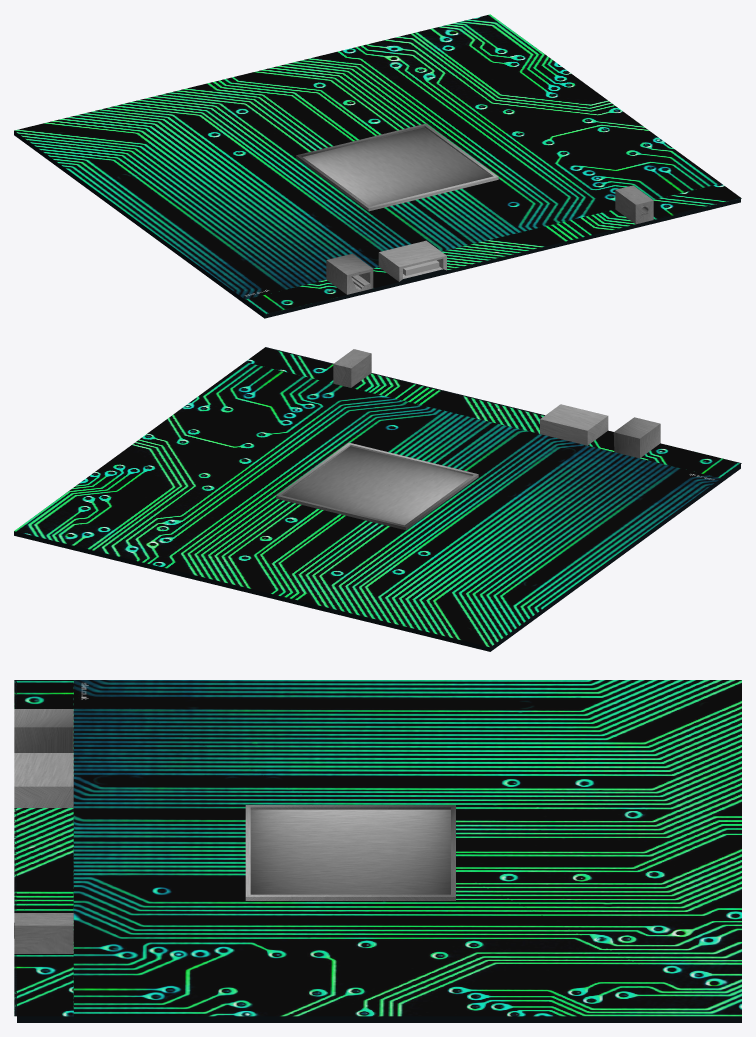
The model's file is motherboard.obj.
3 renders of one model, top to bottom at view 1: azimuth 30°, elevation 25°; view 2: azimuth 150°, elevation 25°; view 3: azimuth 270°, elevation 25°, orthographic. The views are drawn at different scales.
Visible parts, largest first — view 1: Cube; view 2: Cube; view 3: Cube.
Boxes of the visible parts, bbox=[...] form: Cube: bbox=[14, 14, 741, 318]; Cube: bbox=[14, 347, 741, 651]; Cube: bbox=[14, 680, 741, 1022].
Size of the model in its own units: 18 by 0.879 by 16.47.
Materials: 3 (3 with a texture image).
